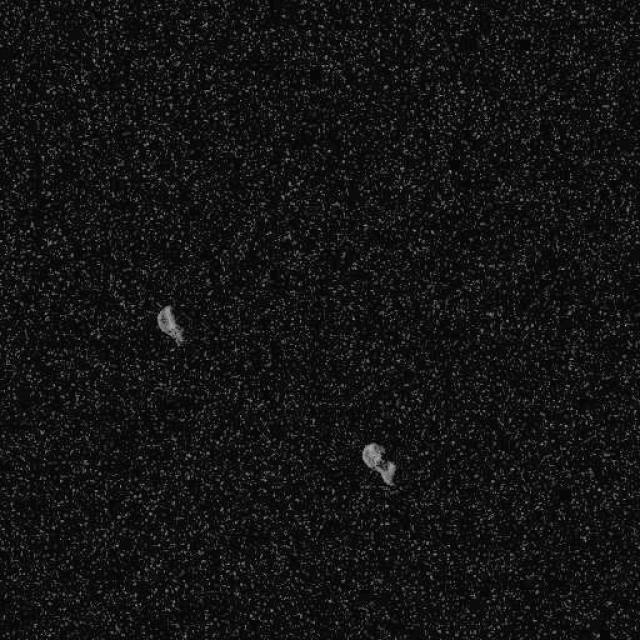D2: (360, 442, 398, 488), (155, 304, 185, 346)
